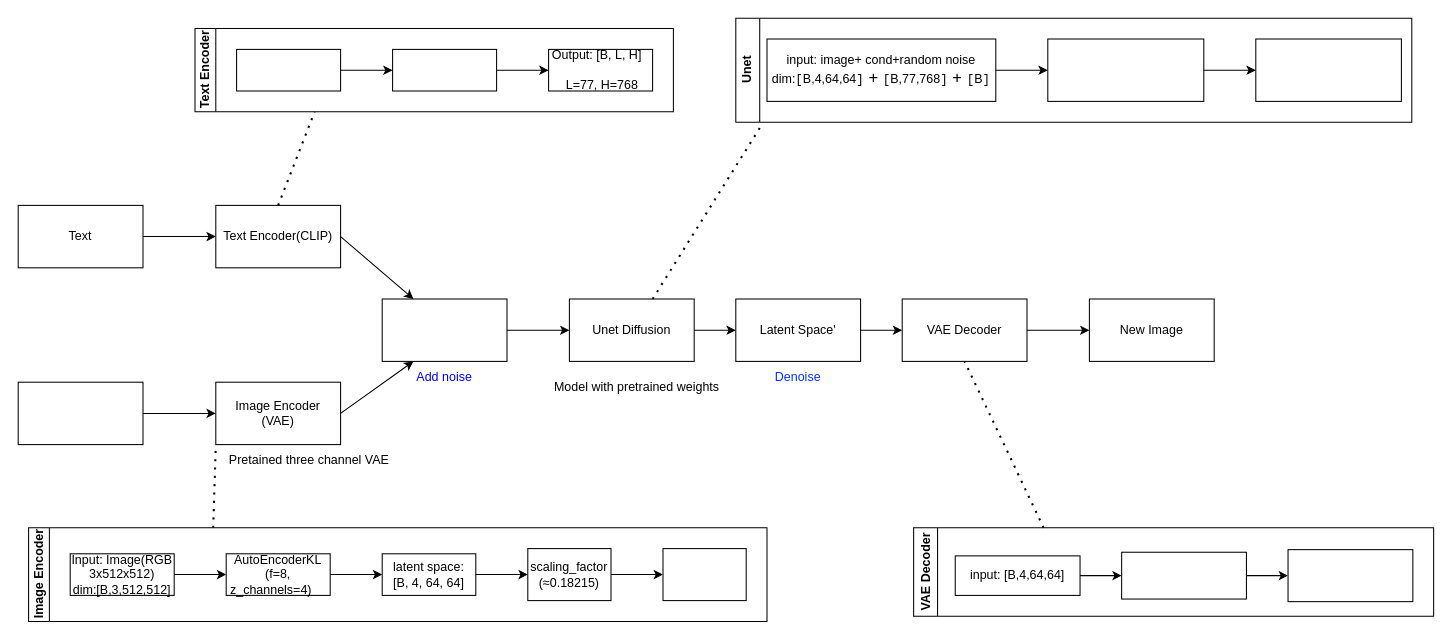
Image size: 1452x640. Some labels were removed from this diagram. The centre of each missing label's shape, as x and y in pixels:
"CLIP text encoder" goes at [444,69].
"divide by scaling_factor" goes at [1183,575].
"Image" goes at [80,413].
"input: text dim: [B,text]" goes at [288,69].
"Latent Space" goes at [444,329].
"Model: downblocks middle block(self+attention) up blocks" goes at [1125,69].
"output: [B, 4, 64, 64]" goes at [704,574].
"output:image dim:[B,3,512,512]" goes at [1350,575].
"output:predicted noise dim:[B,4,64,64]" goes at [1328,69].
